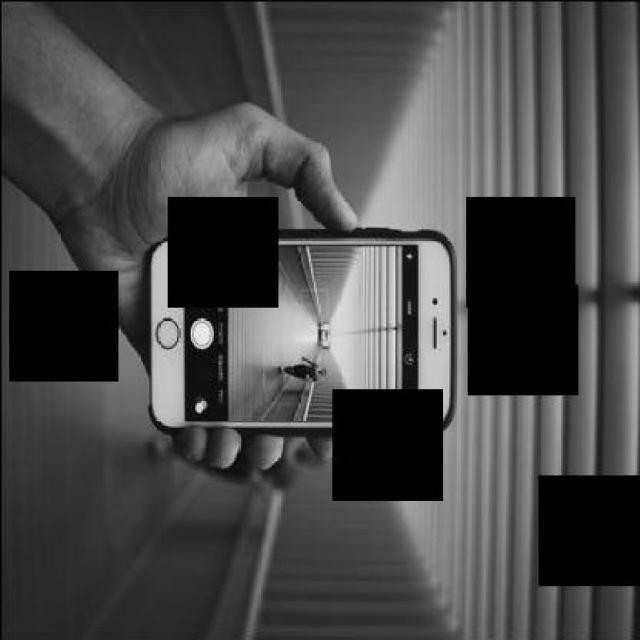fake: (140, 228, 458, 434)
